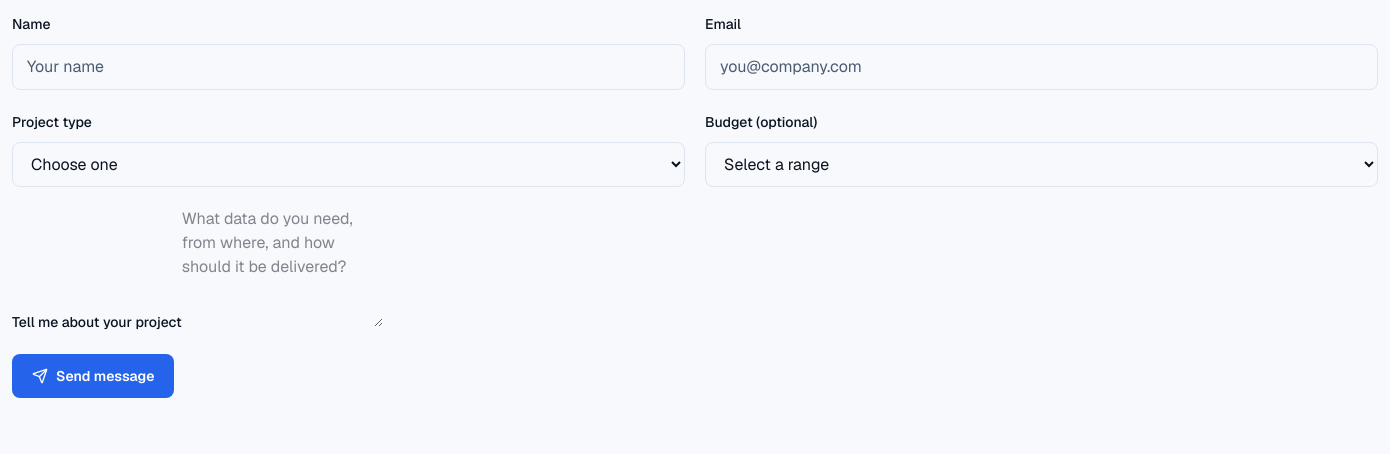
ContactForm › posts clean JSON without an empty budget and confirms success
The width and height of the screenshot is (1390, 454).
In the field labelled "Name": (348, 67) left=12, top=44, right=685, bottom=90, type "Test Person"
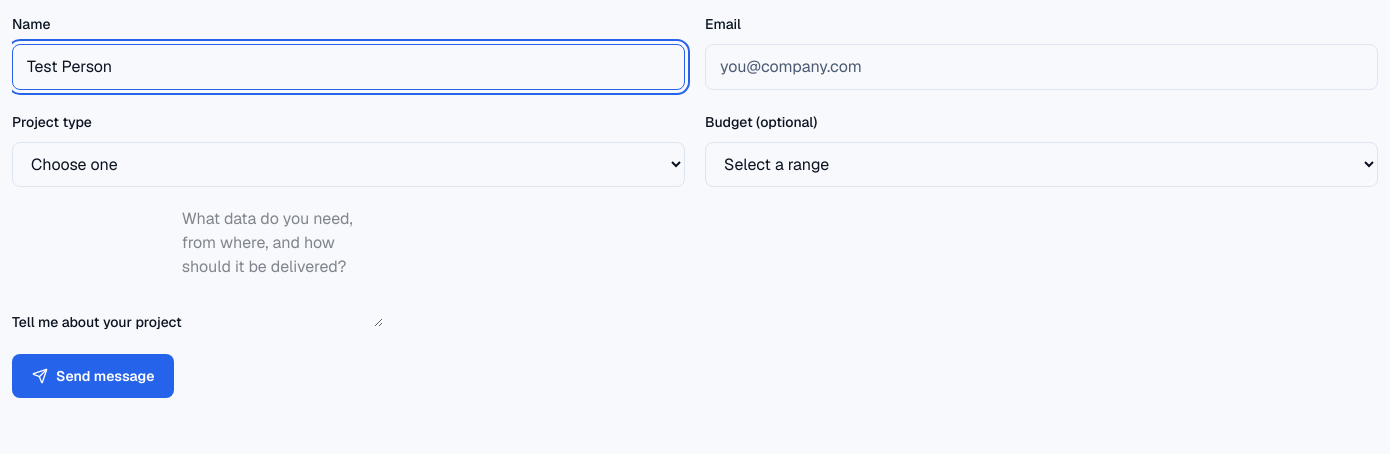
In the field labelled "Email": (1042, 67) left=705, top=44, right=1378, bottom=90, type "test@example.com"
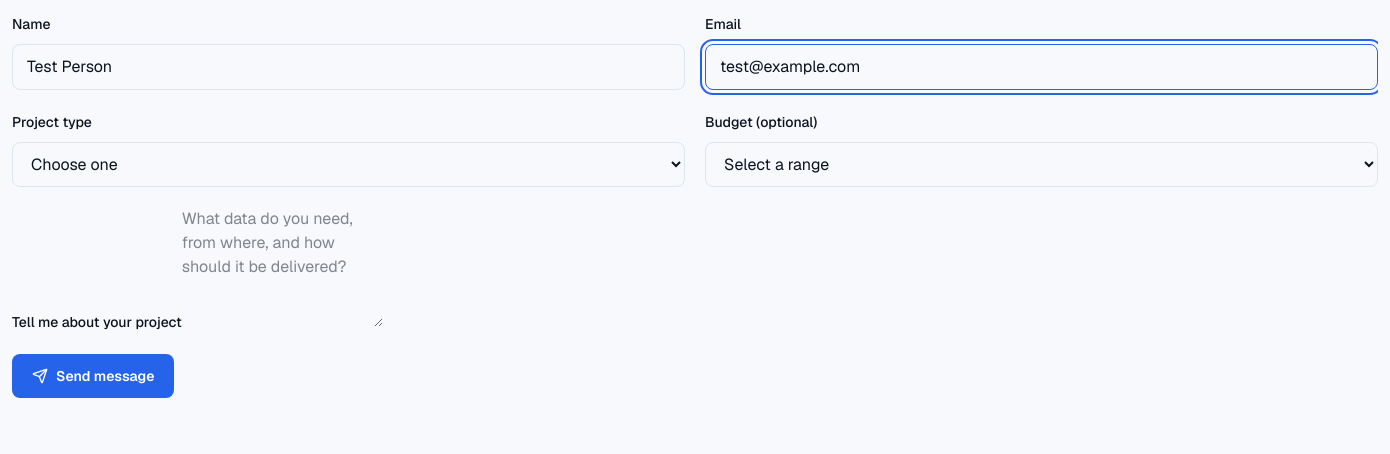
Select "Web scraping" in the dropdown labelled "Project type": (348, 164) left=12, top=142, right=685, bottom=187
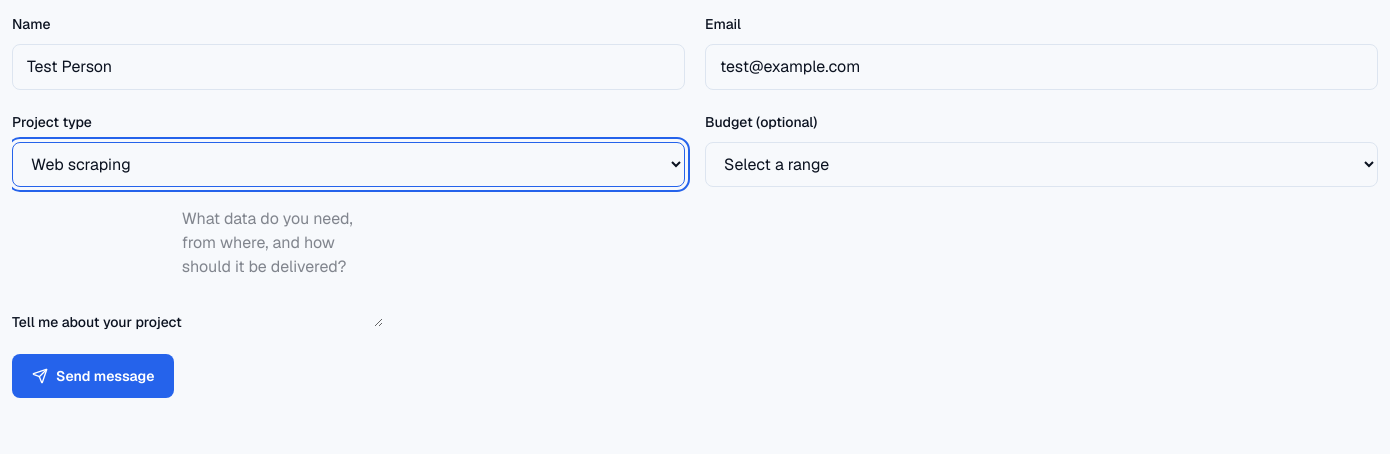
In the text box labelled "Tell me about your project": (282, 267) left=182, top=207, right=383, bottom=327, type "I need listings from ten portals delivered daily."
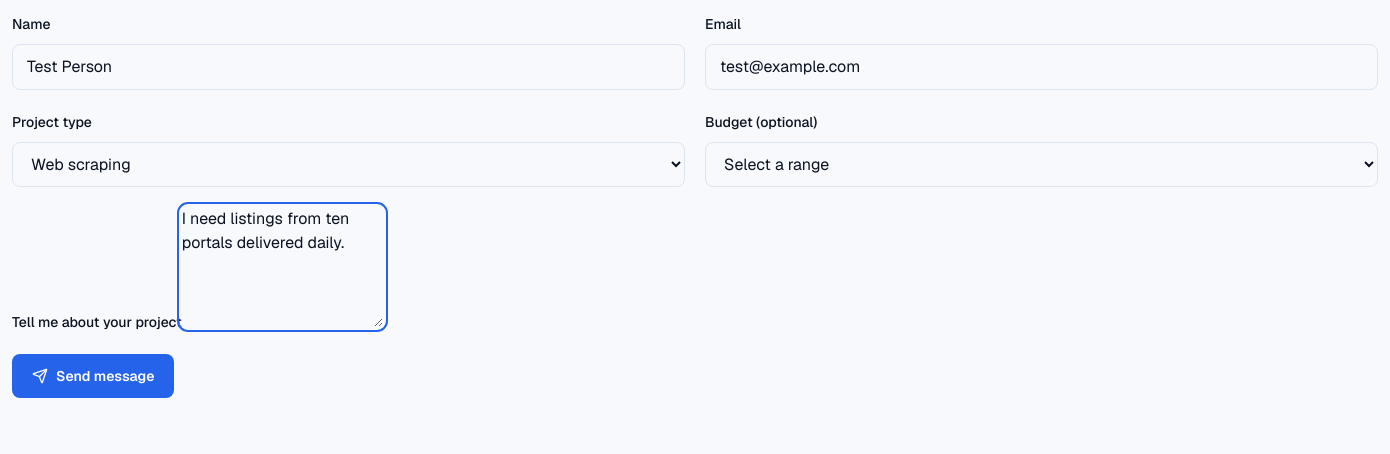
Click the button "Send message": click(93, 376) left=12, top=354, right=174, bottom=398
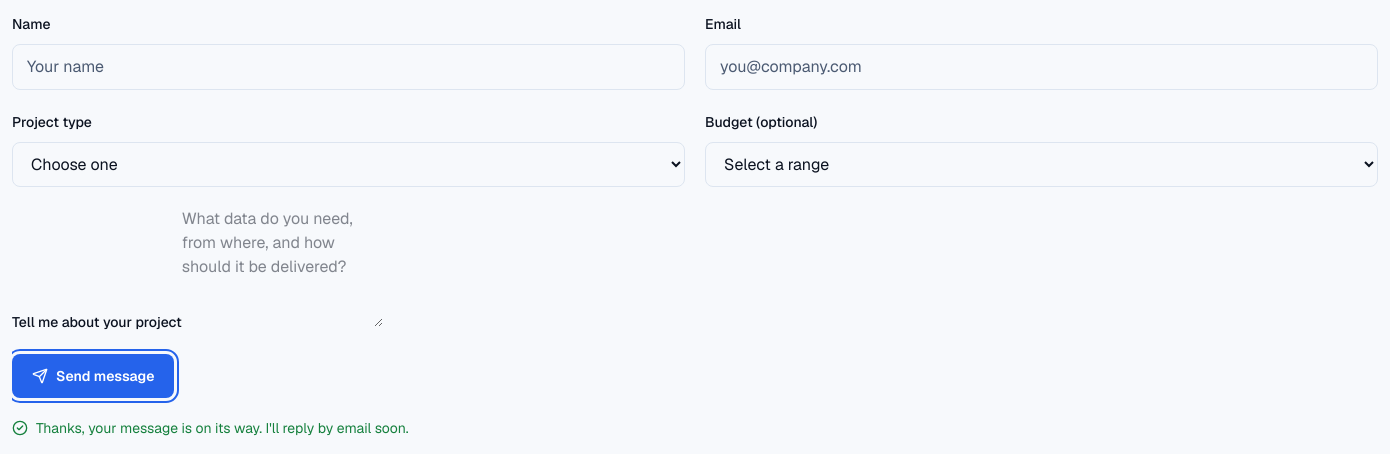
Check: the text "Thanks, your message is on its way. I'll reply by email soon." is shown, box left=12, top=419, right=409, bottom=437
Check: the field labelled "Name" is empty, box left=12, top=44, right=685, bottom=90
